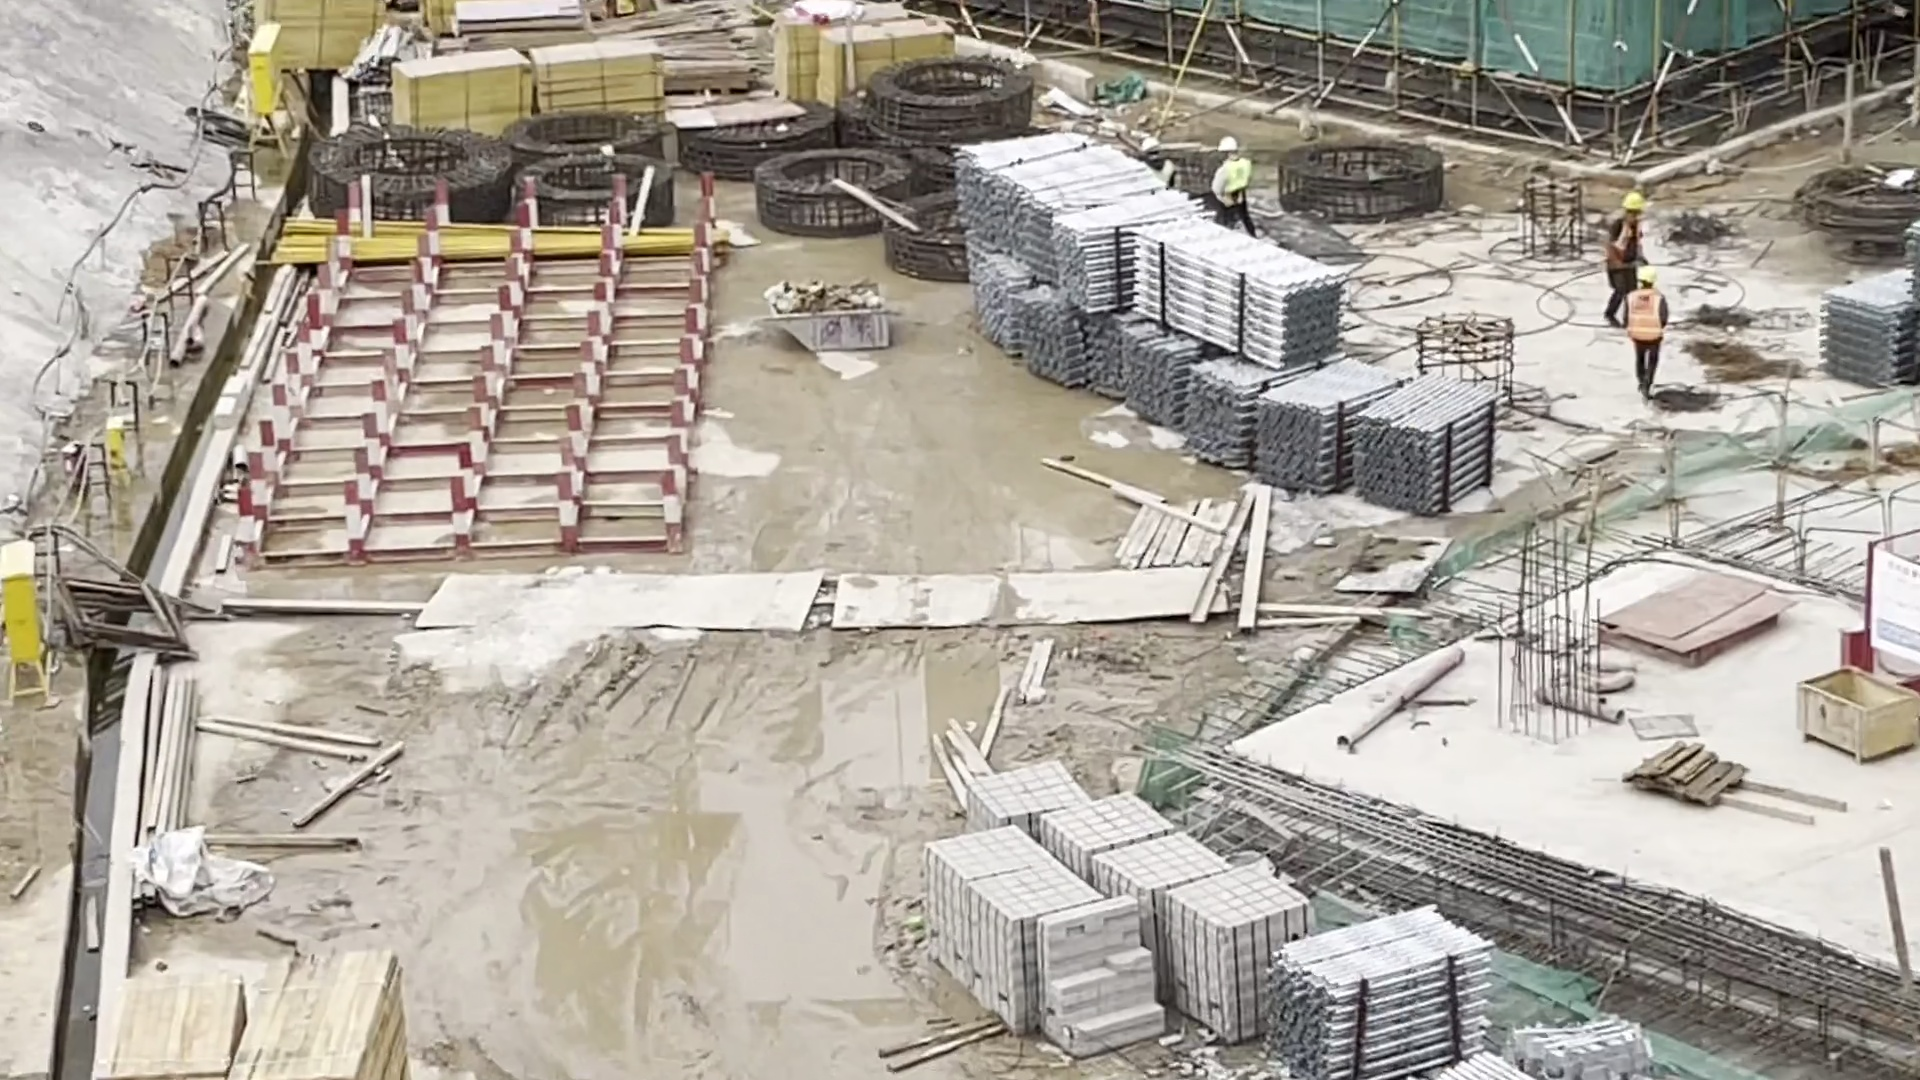brick: (920, 756, 1315, 1060)
ebox: (3, 540, 56, 714), (246, 21, 293, 158)
helmet: (1623, 194, 1644, 212), (1636, 266, 1655, 283), (1219, 136, 1236, 152), (1141, 138, 1159, 151)
hopper: (1795, 665, 1918, 768), (762, 280, 898, 350)
person: (1206, 134, 1266, 235), (1628, 268, 1669, 405), (1600, 193, 1638, 330), (1141, 135, 1182, 186)
scaffold: (947, 133, 1507, 515), (1277, 900, 1539, 1080), (1815, 205, 1920, 386)
vest: (1630, 288, 1662, 344), (1607, 217, 1640, 264), (1221, 158, 1250, 193), (1147, 161, 1173, 183)
wood: (96, 950, 406, 1080)
